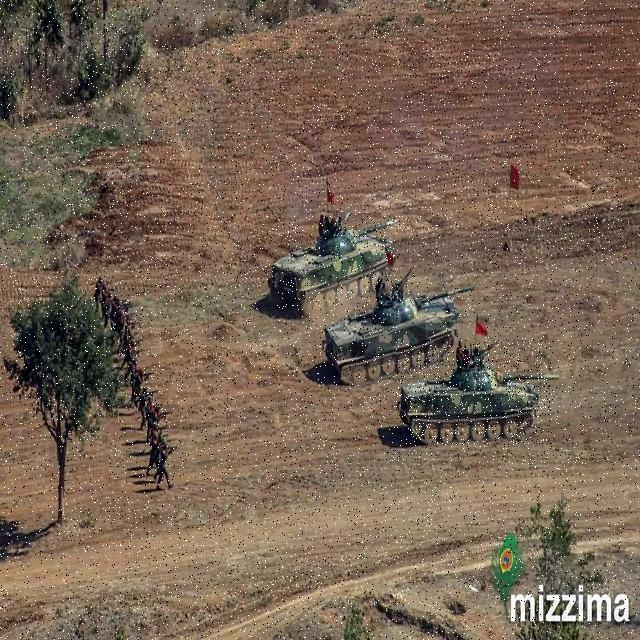MIL_MBT: (396, 342, 552, 445), (322, 287, 471, 387), (264, 214, 398, 318)
